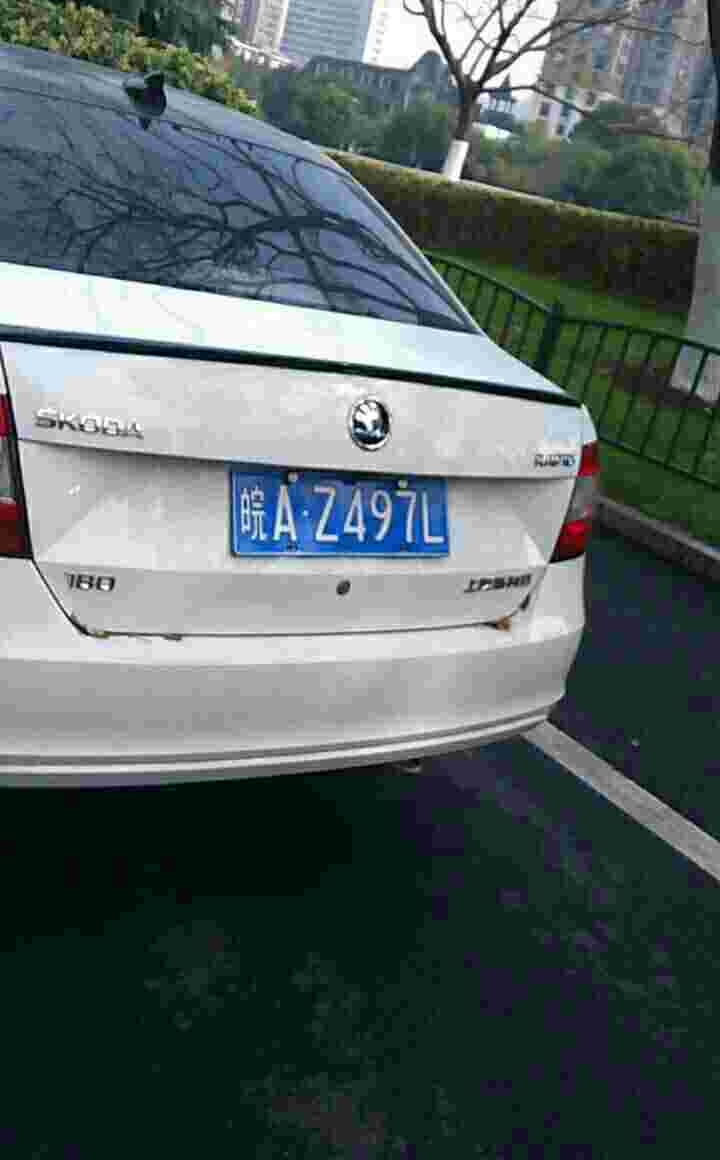license_plate: (230, 473, 449, 567)
